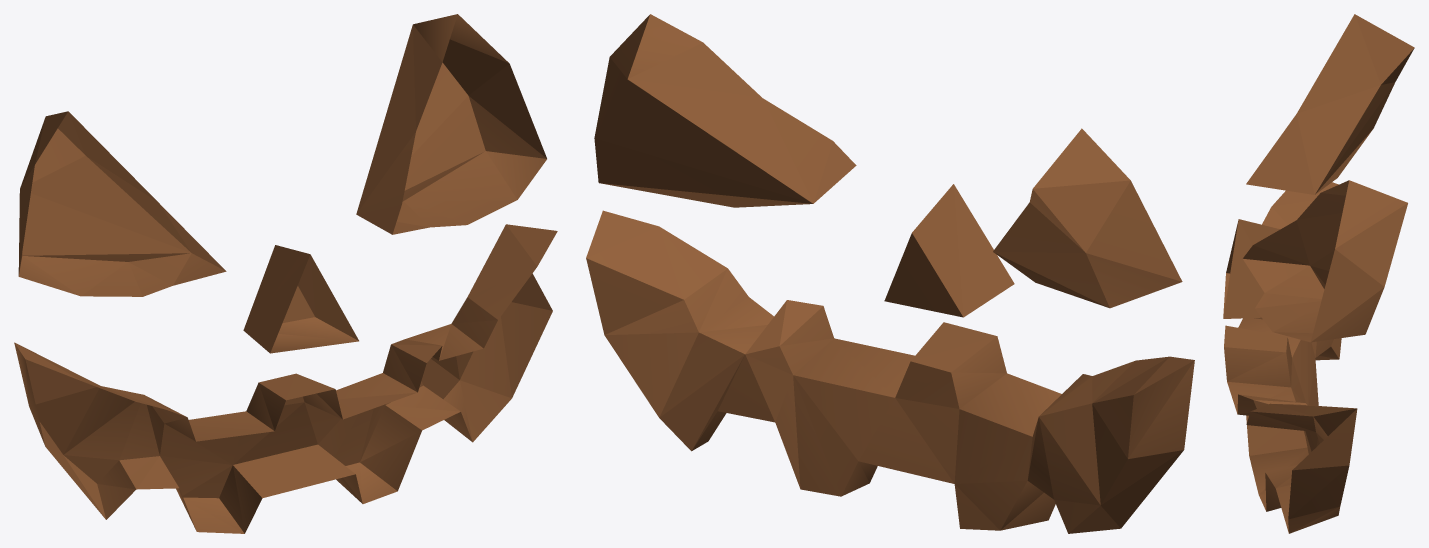
Rendered from EVHalloween_Decor_JackOLanternGrin_Glow7.fbx.
3 views of the same model, side by side, from view 1: azimuth 30°, elevation 25°; view 2: azimuth 150°, elevation 25°; view 3: azimuth 270°, elevation 25° (orthographic). The views are drawn at different scales.
Parts seen in each view (by area): view 1: EVHalloween_Decor_PumpkinOrange; view 2: EVHalloween_Decor_PumpkinOrange; view 3: EVHalloween_Decor_PumpkinOrange.
Boxes of the visible parts, <box> form: EVHalloween_Decor_PumpkinOrange: <box>14,14,557,533</box>; EVHalloween_Decor_PumpkinOrange: <box>586,14,1194,533</box>; EVHalloween_Decor_PumpkinOrange: <box>1223,14,1414,533</box>.
Size of the model in its own units: 18.69 by 14.15 by 6.47.
